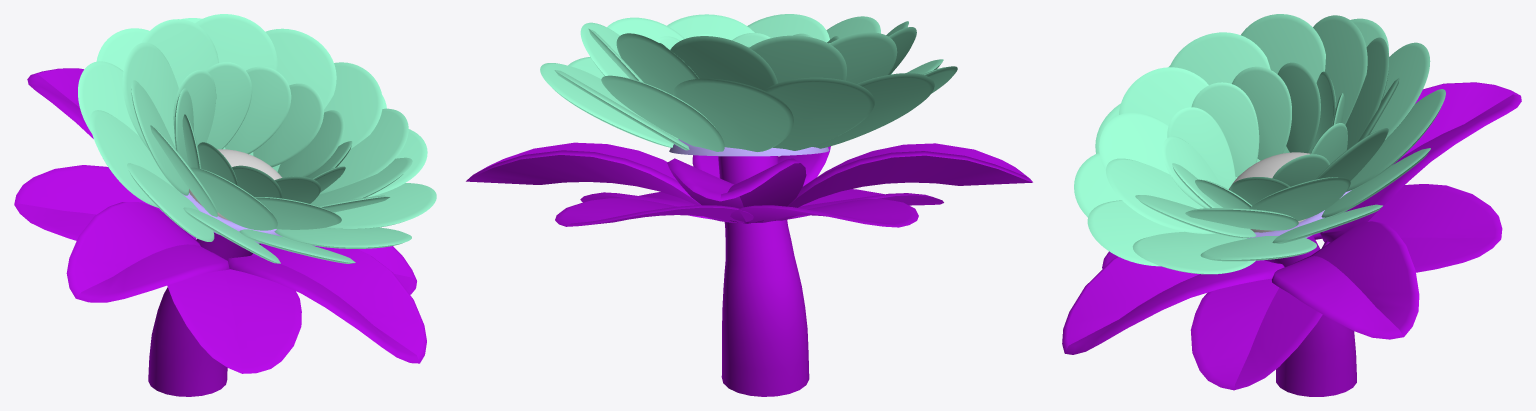
File: Flower6.fbx
3 views of the same model, side by side, from view 1: azimuth 30°, elevation 25°; view 2: azimuth 150°, elevation 25°; view 3: azimuth 270°, elevation 25° (orthographic). The views are drawn at different scales.
Visible parts, largest first — view 1: pedals6, leaves, stem6, center; view 2: pedals6, leaves, stem6; view 3: pedals6, leaves, stem6, center.
Boxes of the visible parts, x1,y1,x2,y2 form: pedals6: (78,14,436,263); leaves: (14,68,426,373); stem6: (148,232,260,396); center: (189,149,282,221); pedals6: (540,14,957,151); leaves: (466,139,1032,227); stem6: (718,156,809,396); pedals6: (1074,14,1445,274); leaves: (1062,82,1521,390); stem6: (1264,235,1356,396); center: (1229,152,1310,232).
Size of the model in its own units: 0.9952 by 0.772 by 0.94.
